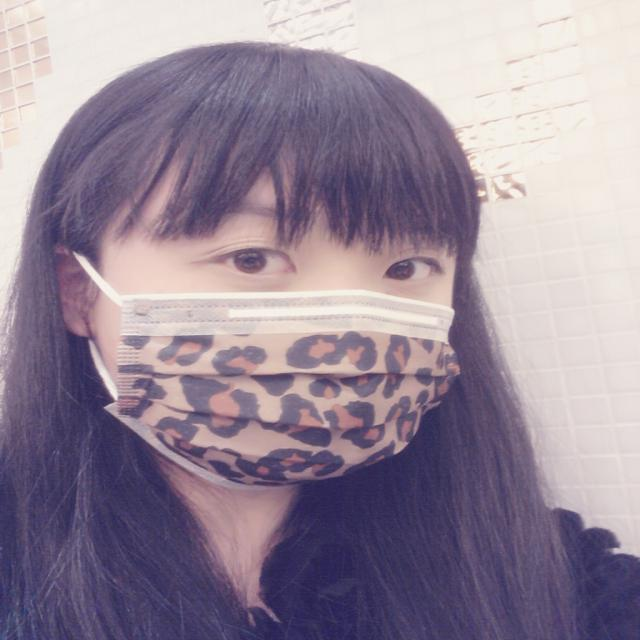mask: (112, 142, 440, 477)
